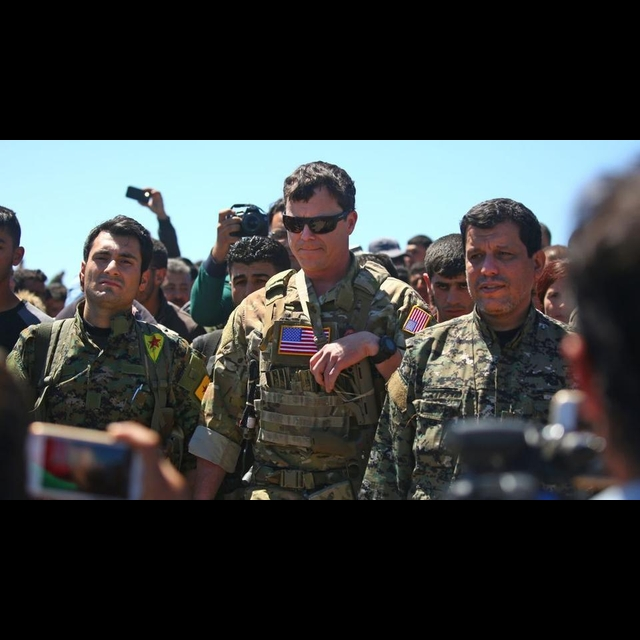YPG: (141, 331, 166, 363)
